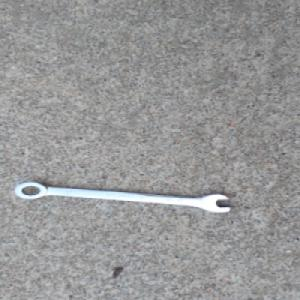Wrench: (12, 178, 234, 214)
